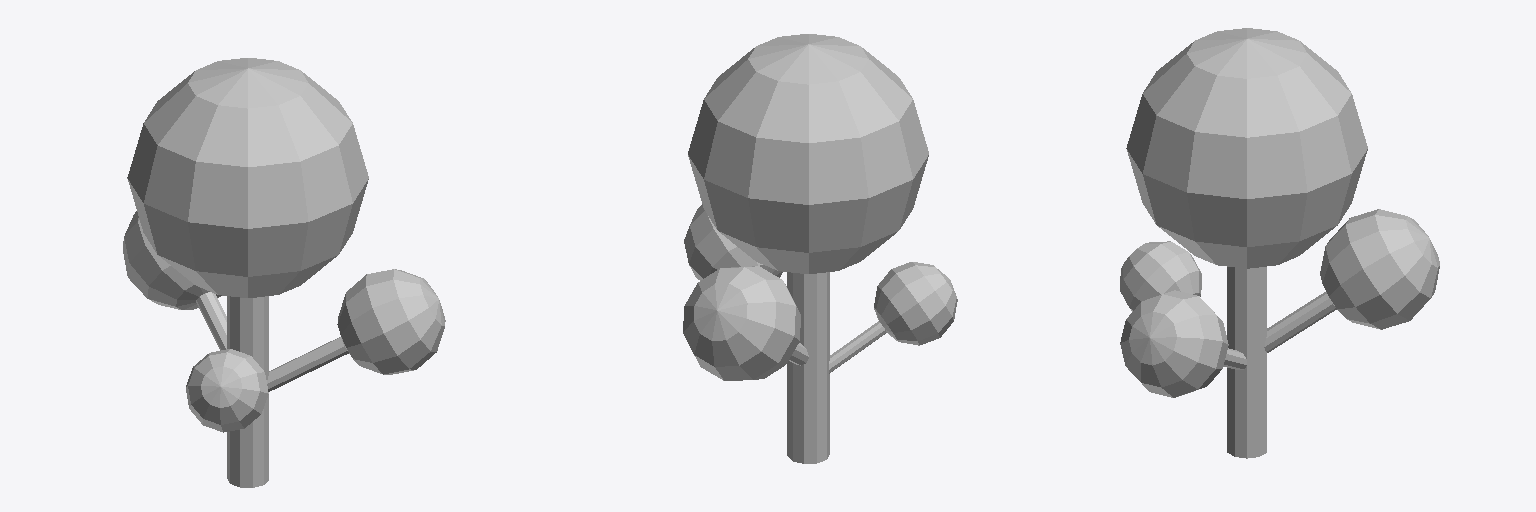
Rendered from simpleTree.obj.
3 views of the same model, side by side, from view 1: azimuth 30°, elevation 25°; view 2: azimuth 150°, elevation 25°; view 3: azimuth 270°, elevation 25° (orthographic).
Visible parts, largest first — view 1: SimpleTree; view 2: SimpleTree; view 3: SimpleTree.
Part boxes in pixels (x1,y1,x2,y2): SimpleTree: (123, 58, 445, 487); SimpleTree: (683, 34, 957, 463); SimpleTree: (1120, 28, 1439, 458).
Size of the model in its own units: 98.44 by 150 by 106.